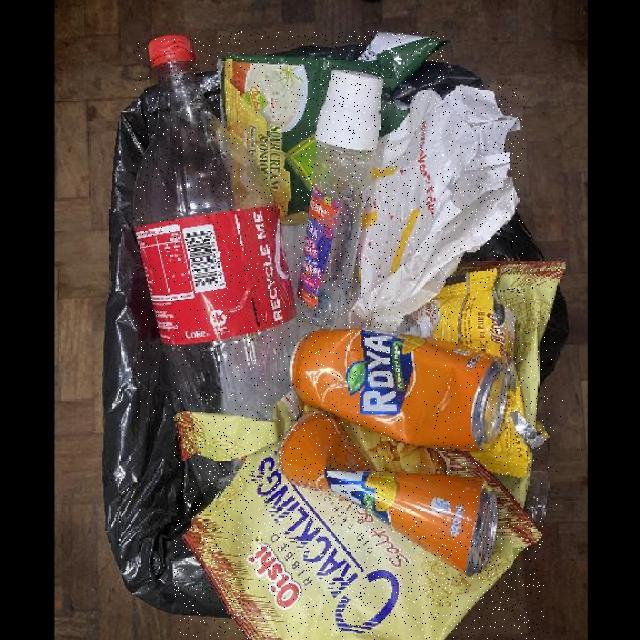metal: (277, 411, 498, 577), (292, 330, 512, 454)
paper: (352, 84, 525, 332)
plastic: (134, 38, 299, 418), (296, 71, 384, 328)
wrapper: (174, 389, 544, 640), (219, 32, 448, 226), (395, 260, 564, 509), (432, 269, 552, 476)
